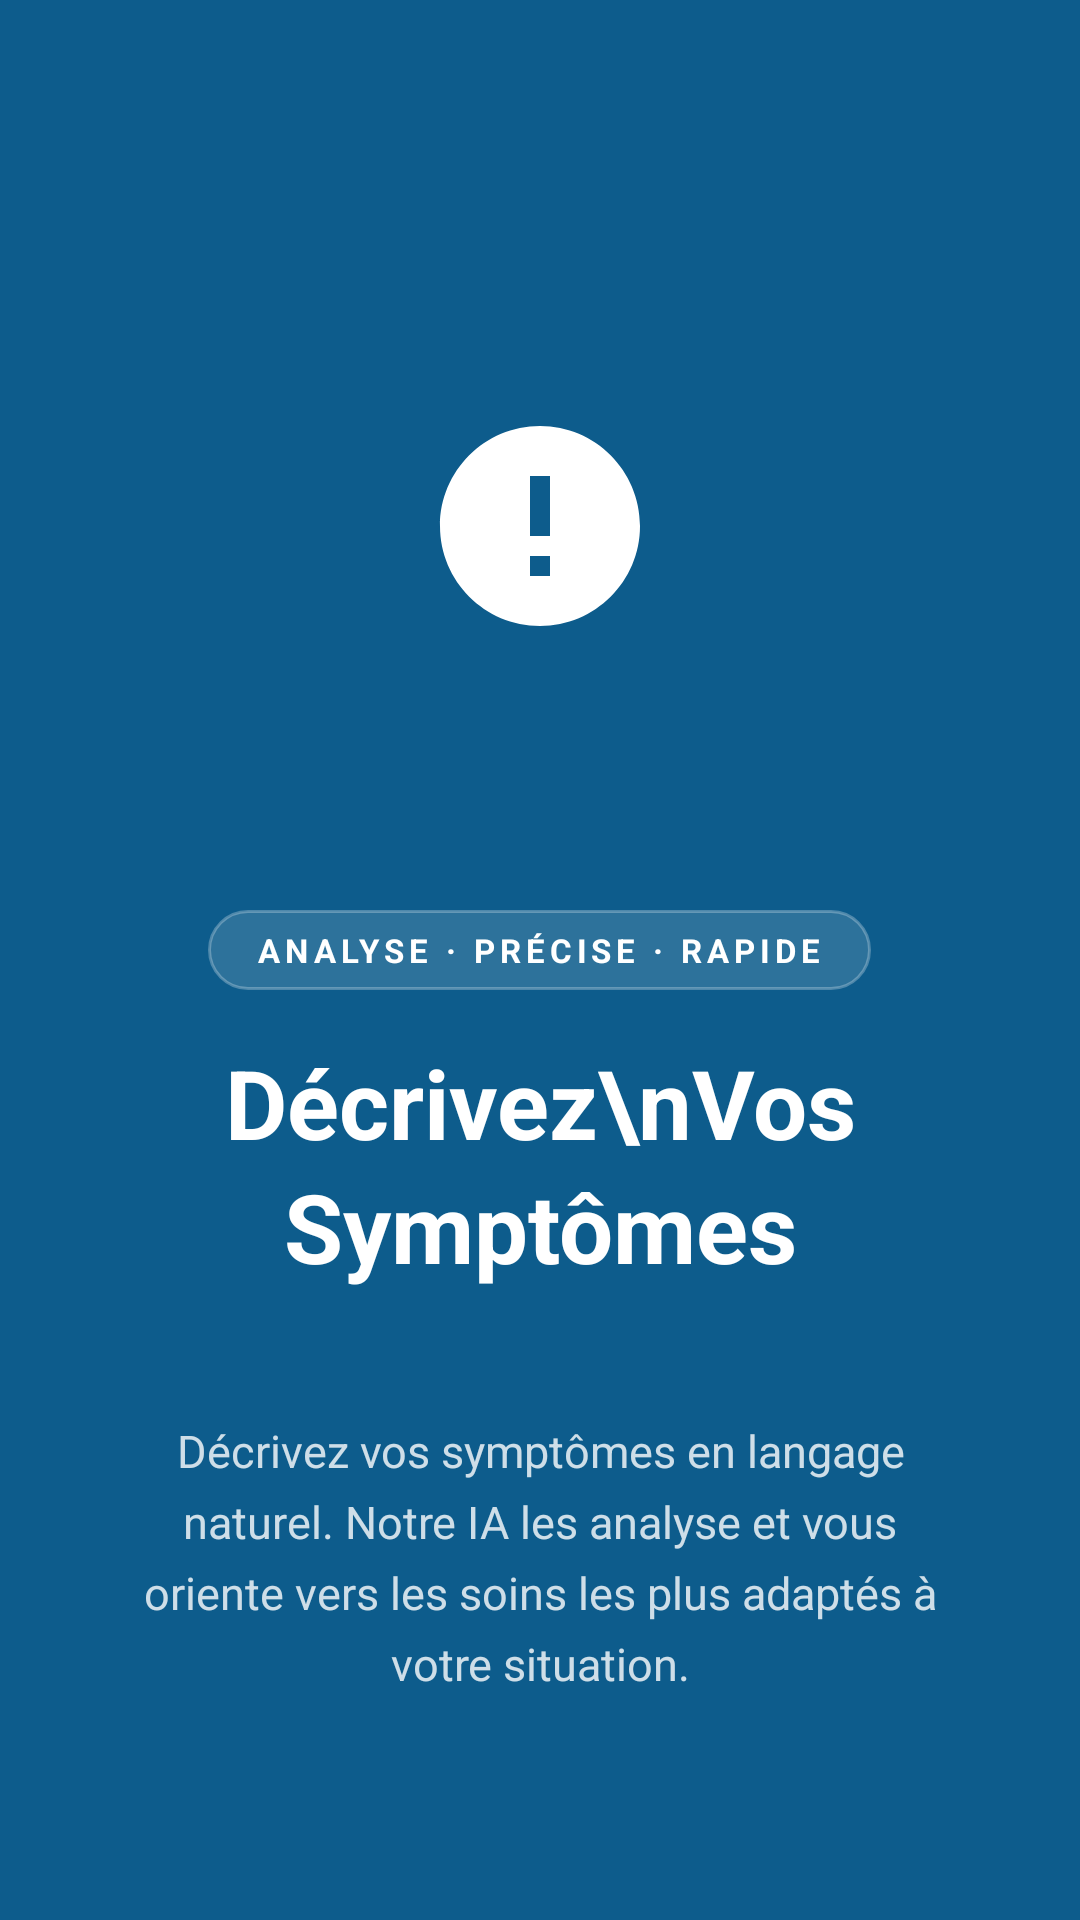

Where to tap for icons on this 1080 × 1920 app screen, as (x,y):
diagnostic: (539,526)
